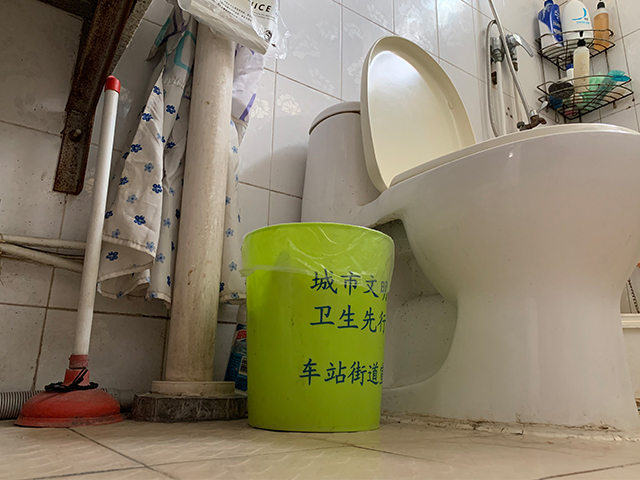closestool: (300, 33, 640, 445)
trashcan: (240, 222, 393, 435)
